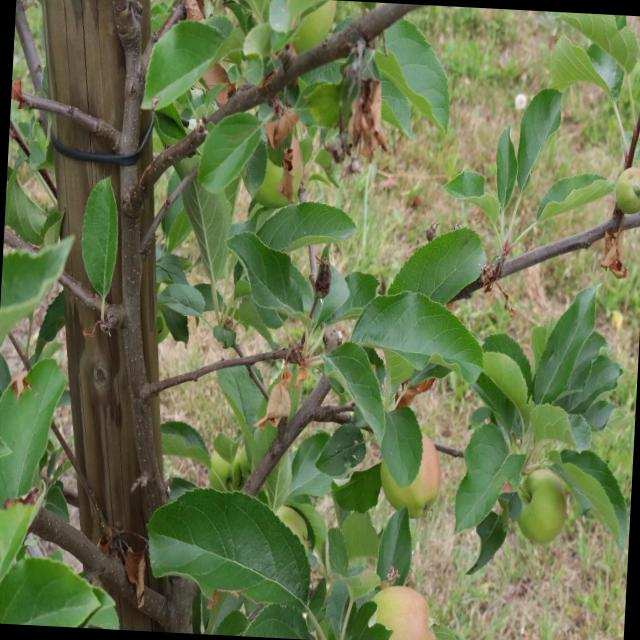-FireBlight-: (339, 38, 399, 160), (262, 74, 314, 200), (272, 349, 308, 417), (600, 224, 632, 278)
